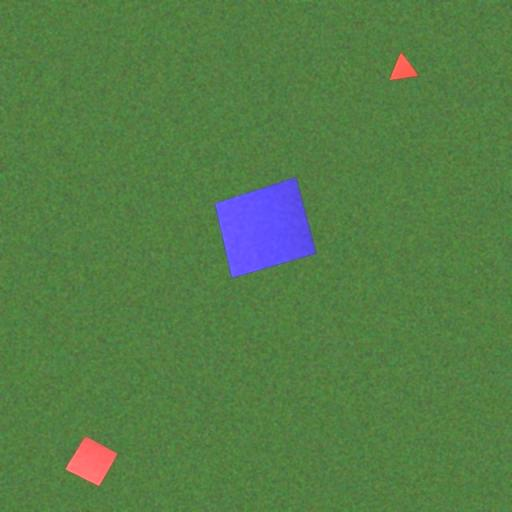BLUE_SQUARE: (214, 176, 318, 278)
RED_SQUARE: (64, 435, 118, 487)
